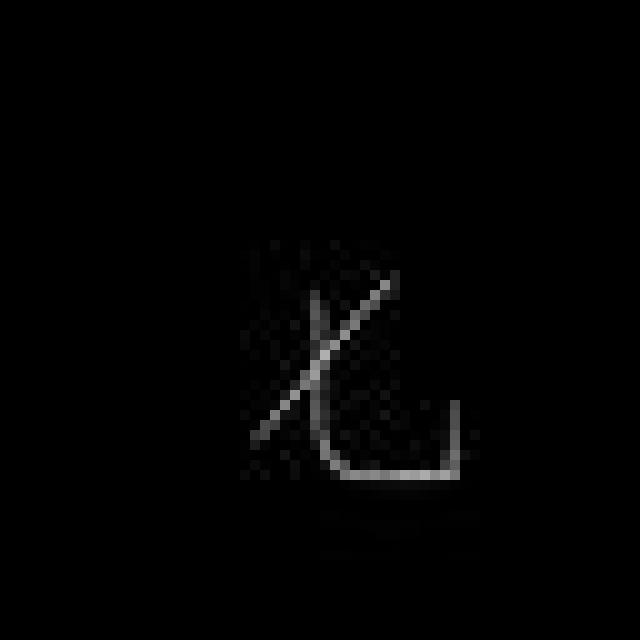7 -seven-: (261, 276, 469, 489)
